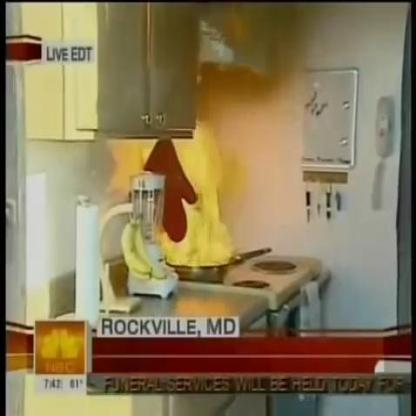fire: (164, 122, 238, 268)
